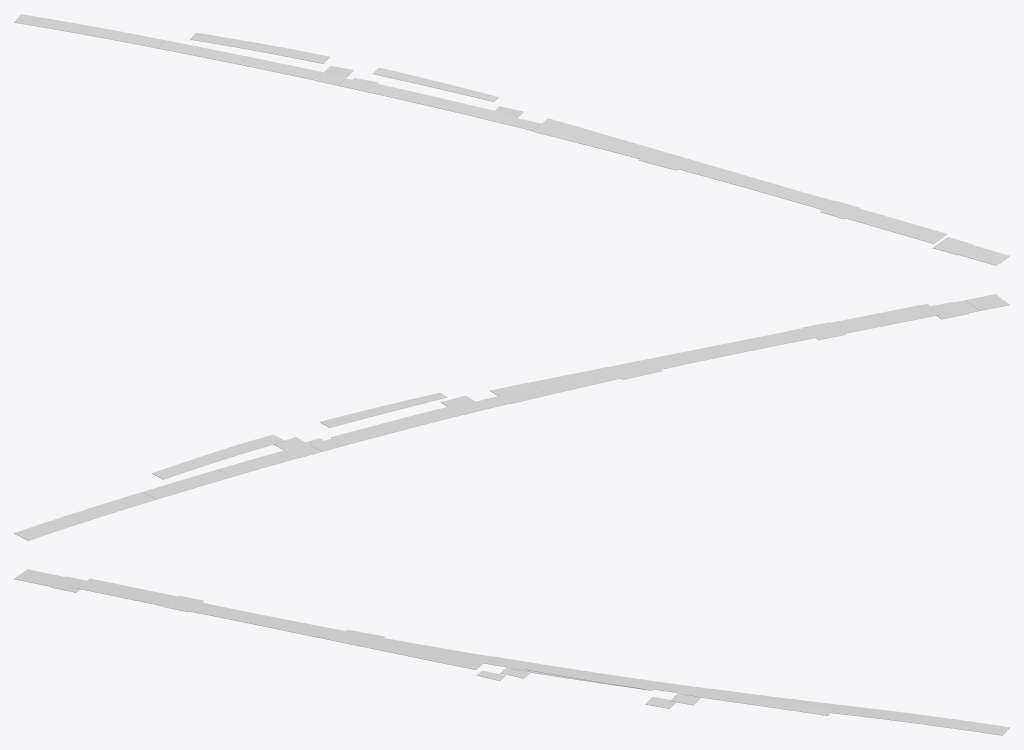
The model's file is NoLod_6.glb.
The picture shows the model from 3 angles, top to bottom: view 1: azimuth 90°, elevation 25°; view 2: azimuth 150°, elevation 25°; view 3: azimuth 270°, elevation 25°; orthographic projection. The views are drawn at different scales.
Parts seen in each view (by area): view 1: rtc; view 2: rtc; view 3: rtc.
Boxes of the visible parts, x1,y1,x2,y2 form: rtc: (14,14,1009,265); rtc: (14,294,1009,540); rtc: (14,569,1009,735).
Size of the model in its own units: 307 by 29.78 by 618.
Materials: 1 (1 with a texture image).
